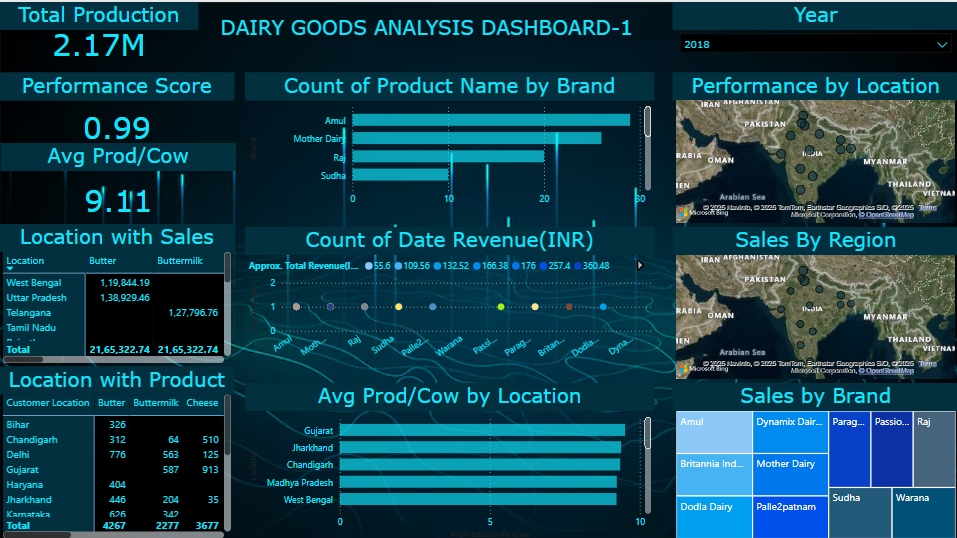

The dashboard page shown, as its layout file describes it:
{"tool":"powerbi","page":{"name":"Page 1","canvas":[1280,720],"ordinal":0},"visuals":[{"type":"card","title":"Total Production","fields":{"Values":["dairy_dataset.TotalProduction"]},"box":[0,0,266,78],"z":0},{"type":"card","title":"Avg Prod/Cow","fields":{"Values":["dairy_dataset.AvgProductionPerCow"]},"box":[2,188,314,118],"z":1000},{"type":"card","title":"Performance Score","fields":{"Values":["dairy_dataset.PerformanceScore"]},"box":[0,94,314,112],"z":2000},{"type":"pivotTable","title":"Location with Sales","fields":{"Rows":["dairy_dataset.Location"],"Columns":["dairy_dataset.Product Name"],"Values":["dairy_dataset.TotalProduction"]},"box":[0,296,314,190],"z":3000},{"type":"barChart","title":"Avg Prod/Cow by Location","fields":{"Y":["dairy_dataset.AvgProductionPerCow"],"Category":["dairy_dataset.Location"]},"box":[328,508,546,212],"z":4000},{"type":"map","title":"Performance by Location","fields":{"Category":["dairy_dataset.Location"],"Size":["dairy_dataset.PerformanceScore"]},"box":[898,94,382,206],"z":5000},{"type":"slicer","title":"Year","fields":{"Values":["dairy_dataset.Year"]},"box":[898,0,382,78],"z":6000},{"type":"barChart","fields":{"Category":["dairy_dataset.Brand"],"Y":["CountNonNull(dairy_dataset.Product Name)"]},"box":[328,94,546,186],"z":7000},{"type":"treemap","title":"Sales by Brand","fields":{"Group":["dairy_dataset.Brand"],"Values":["dairy_dataset.SalesByProduct"]},"box":[898,508,382,212],"z":8000},{"type":"map","title":"Sales By Region ","fields":{"Category":["dairy_dataset.Customer Location"],"Size":["dairy_dataset.SalesByRegion"]},"box":[898,300,382,208],"z":9000},{"type":"pivotTable","title":"Location with Product","fields":{"Rows":["dairy_dataset.Customer Location"],"Columns":["dairy_dataset.Product Name"],"Values":["Sum(dairy_dataset.Quantity Sold (liters/kg))"]},"box":[0,486,314,234],"z":10000},{"type":"lineChart","title":"Count of Date  Revenue(INR)","fields":{"Category":["dairy_dataset.Brand"],"Y":["CountNonNull(dairy_dataset.Date)"],"Series":["dairy_dataset.Approx. Total Revenue(INR)"]},"box":[328,300,546,186],"z":11000},{"type":"textbox","box":[290,12,730,50],"z":12000}]}

Visuals, with their boxes in screenshot pixels (x1, y1, x2, y2), scaled from the page's 1280x720 canvas onto the 957x538 screenshot:
"Total Production" card: x1=0, y1=0, x2=199, y2=58
"Avg Prod/Cow" card: x1=1, y1=140, x2=236, y2=229
"Performance Score" card: x1=0, y1=70, x2=235, y2=154
"Location with Sales" pivotTable: x1=0, y1=221, x2=235, y2=363
"Avg Prod/Cow by Location" barChart: x1=245, y1=380, x2=653, y2=537
"Performance by Location" map: x1=671, y1=70, x2=956, y2=224
"Year" slicer: x1=671, y1=0, x2=956, y2=58
barChart - dairy_dataset.Brand x CountNonNull(dairy_dataset.Product Name): x1=245, y1=70, x2=653, y2=209
"Sales by Brand" treemap: x1=671, y1=380, x2=956, y2=537
"Sales By Region " map: x1=671, y1=224, x2=956, y2=380
"Location with Product" pivotTable: x1=0, y1=363, x2=235, y2=537
"Count of Date  Revenue(INR)" lineChart: x1=245, y1=224, x2=653, y2=363
textbox: x1=217, y1=9, x2=763, y2=46
